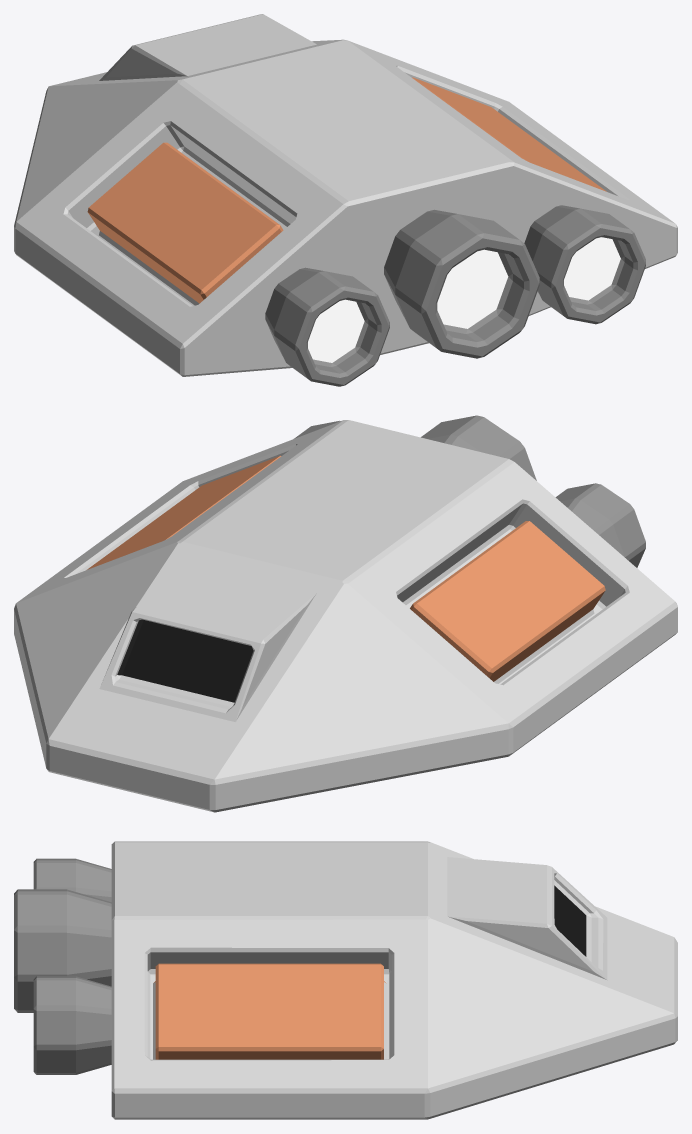
Rendered from ship.glb.
3 renders of one model, top to bottom at view 1: azimuth 30°, elevation 25°; view 2: azimuth 150°, elevation 25°; view 3: azimuth 270°, elevation 25°, orthographic. The views are drawn at different scales.
Parts seen in each view (by area): view 1: Body, SideEngines, Engine; view 2: Body, SideEngines, Engine; view 3: Body, SideEngines, Engine.
Boxes of the visible parts, left/top/right/bottom form: Body: left=14, top=14, right=677, bottom=376; SideEngines: left=265, top=205, right=645, bottom=386; Engine: left=384, top=209, right=539, bottom=358; Body: left=14, top=420, right=677, bottom=812; SideEngines: left=294, top=420, right=645, bottom=567; Engine: left=421, top=415, right=536, bottom=480; Body: left=111, top=841, right=677, bottom=1119; SideEngines: left=33, top=858, right=111, bottom=1074; Engine: left=14, top=889, right=111, bottom=1012.
Size of what is drawn, in the model's own units: 0.0859 by 0.0266 by 0.1055.
